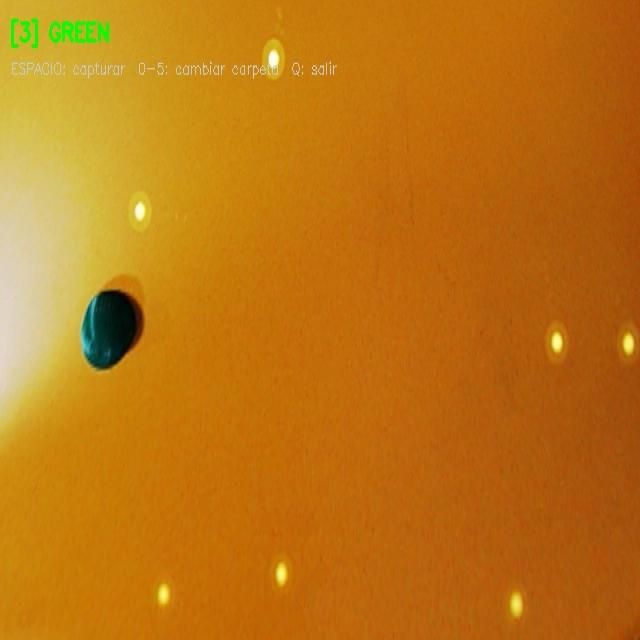green: (77, 284, 141, 370)
